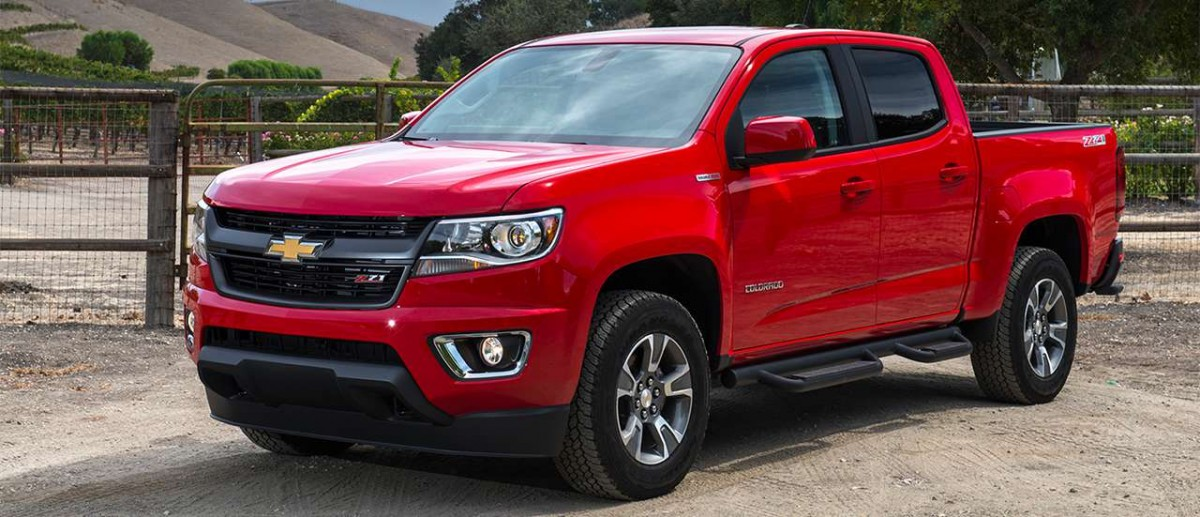pickup: (182, 23, 1129, 504)
